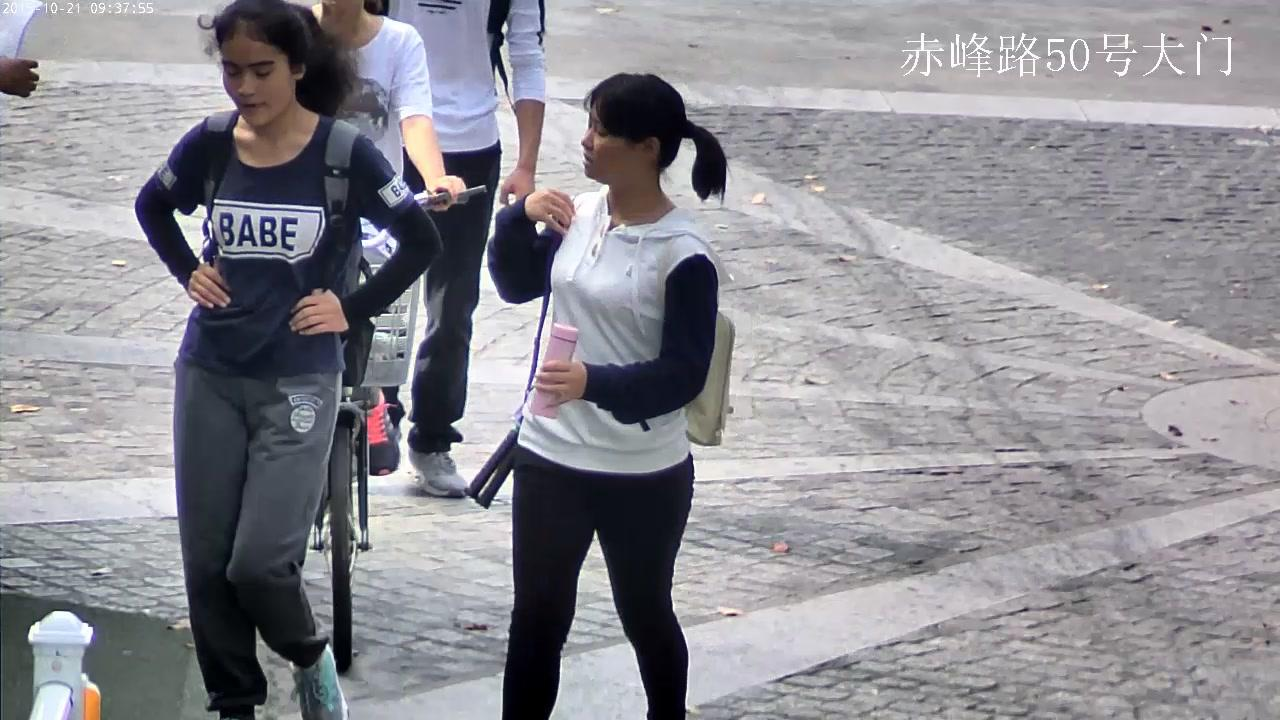person: (136, 0, 445, 720), (488, 71, 733, 720), (316, 0, 489, 674), (365, 0, 546, 496), (317, 0, 471, 475)
